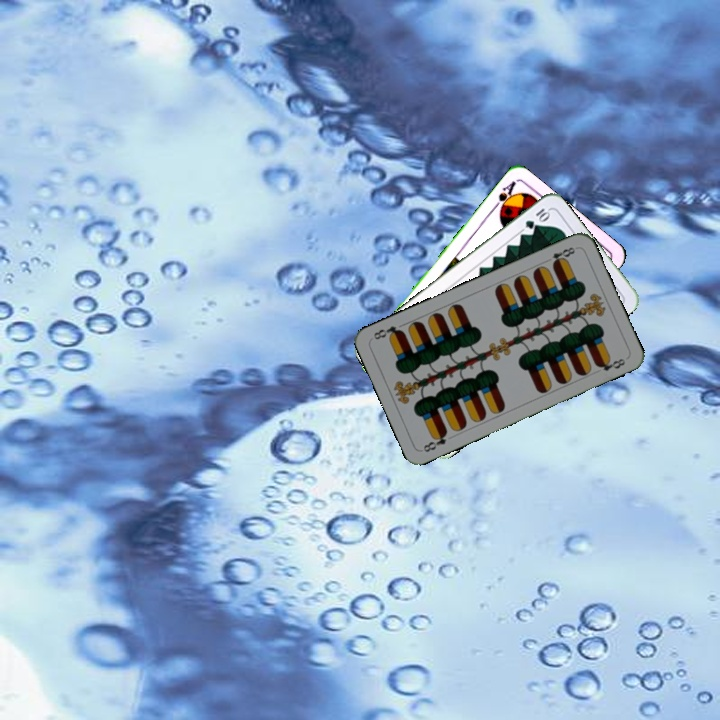E8: (541, 243, 579, 268), (419, 427, 450, 455)
G10: (521, 204, 553, 232)
SA: (488, 177, 518, 216)
